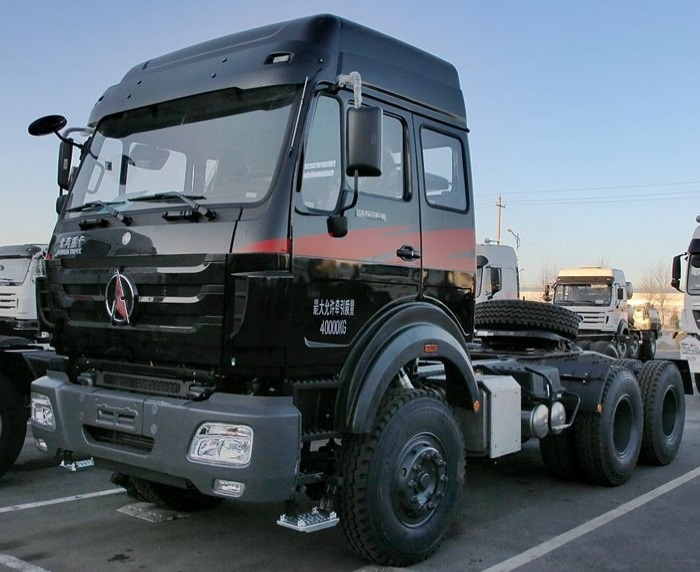heavy truck: (35, 31, 689, 533)
